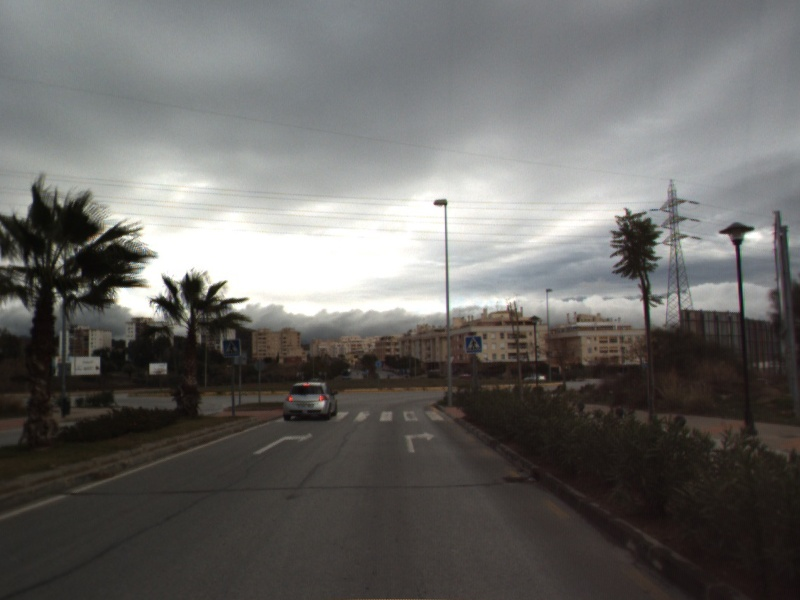RIGHT: (251, 430, 315, 456), (403, 429, 437, 455)
